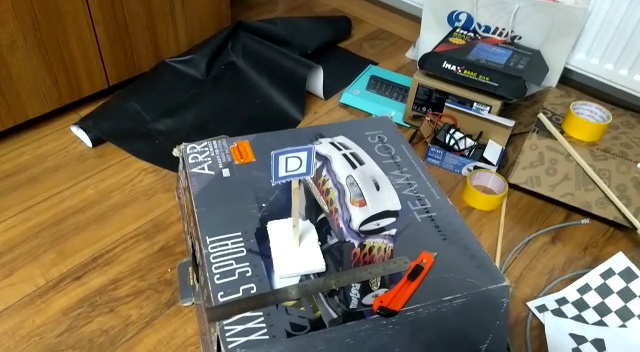durak: (265, 141, 319, 186)
